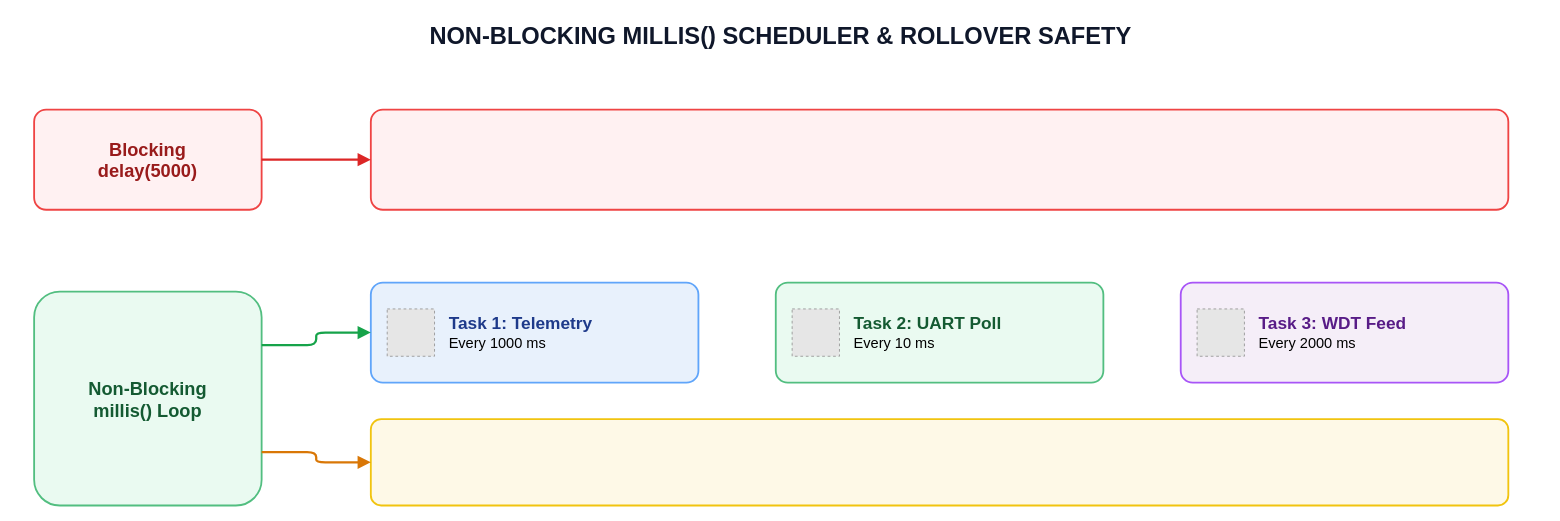
Image size: 1560x521. Some labels were removed from this diagram. Grey dashed boxes stand in for pictures. Each missing label, with the centre of its shape:
"CPU Frozen (5000 ms) Missed UART • Missed WDT" belongs at pixel 939 159.
"Rollover-Safe Check (uint32_t): (uint32_t)(millis() - prevMillis) ≥ interval" belongs at pixel 939 462.
